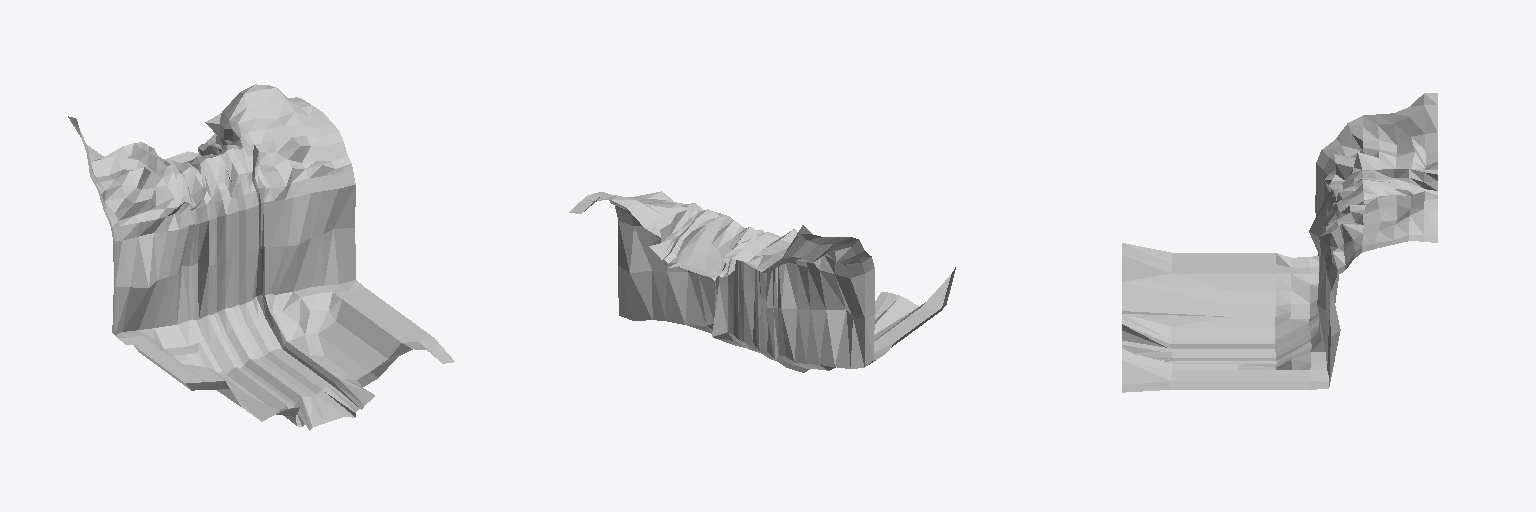
Rendered from Waterfall-water.obj.
3 renders of one model, left to right at view 1: azimuth 30°, elevation 25°; view 2: azimuth 150°, elevation 25°; view 3: azimuth 270°, elevation 25°, orthographic.
Bounding box in the file's own units: 85.04 × 72.1 × 93.26.